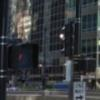traffic lights: (8, 42, 39, 71), (60, 21, 75, 59)
